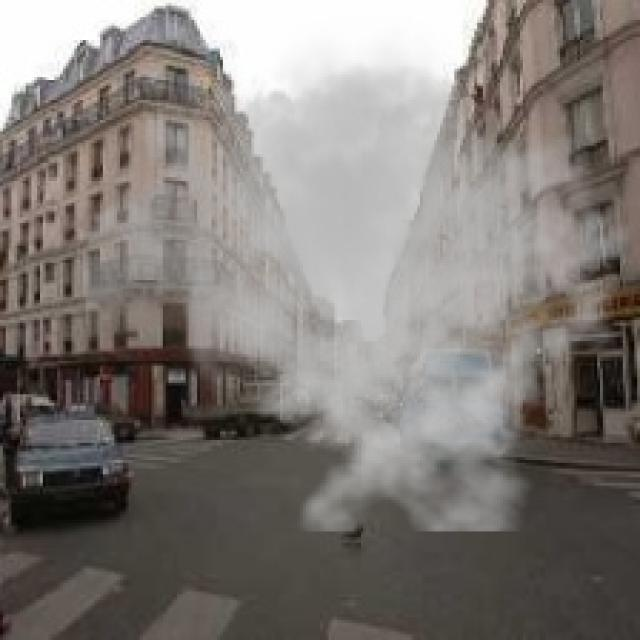Smoke: (80, 14, 637, 532)
